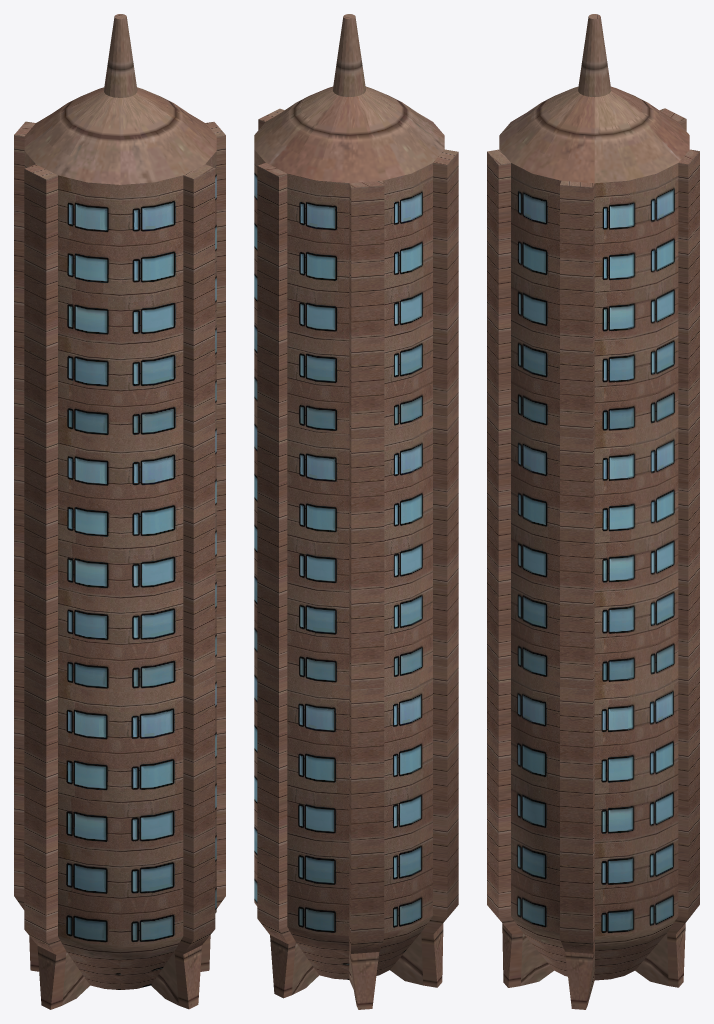
The model's file is Pizza_Delivery skyscraper14.fbx.
3 views of the same model, side by side, from view 1: azimuth 30°, elevation 25°; view 2: azimuth 150°, elevation 25°; view 3: azimuth 270°, elevation 25° (orthographic).
Visible parts, largest first — view 1: Pizza_Delivery:Pizza_Delivery:skyscraper14; view 2: Pizza_Delivery:Pizza_Delivery:skyscraper14; view 3: Pizza_Delivery:Pizza_Delivery:skyscraper14.
Boxes of the visible parts, x1,y1,x2,y2 form: Pizza_Delivery:Pizza_Delivery:skyscraper14: (14, 14, 225, 1009); Pizza_Delivery:Pizza_Delivery:skyscraper14: (254, 14, 458, 1009); Pizza_Delivery:Pizza_Delivery:skyscraper14: (487, 14, 699, 1009).
Size of the model in its own units: 11.74 by 56.81 by 11.48.
